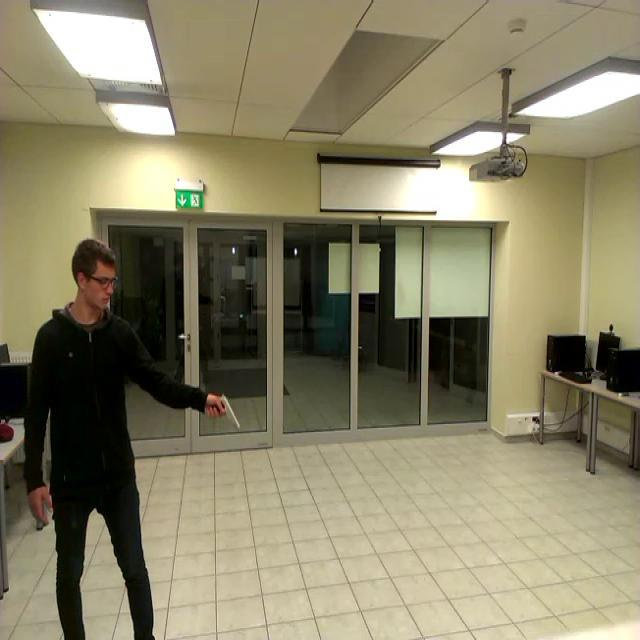Gun: (209, 392, 241, 428)
